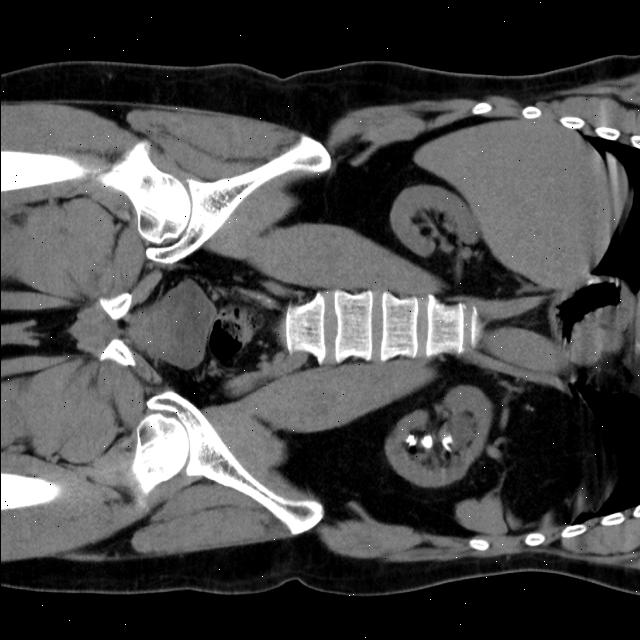kidneystone: (441, 435, 452, 452), (421, 435, 432, 449), (406, 435, 411, 446)
